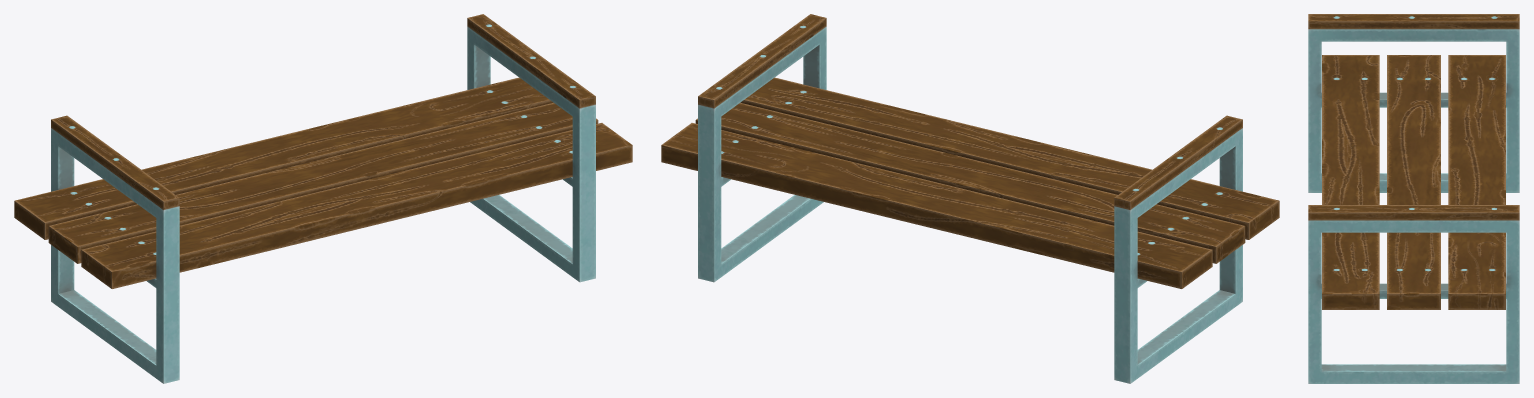
File: modern_bench.gltf
The picture shows the model from 3 angles, left to right: view 1: azimuth 30°, elevation 25°; view 2: azimuth 150°, elevation 25°; view 3: azimuth 270°, elevation 25°; orthographic projection. The views are drawn at different scales.
Visible parts, largest first — view 1: Beam 3, Legs, Beam 1, Beam 2, Armrests; view 2: Beam 1, Legs, Beam 3, Beam 2, Armrests; view 3: Legs, Beam 1, Beam 3, Beam 2, Armrests.
Boxes of the visible parts, <box> form: Beam 3: <box>81,123,632,288</box>; Legs: <box>51,27,595,383</box>; Beam 1: <box>14,77,553,239</box>; Beam 2: <box>48,102,598,263</box>; Armrests: <box>51,14,595,210</box>; Beam 1: <box>661,123,1212,288</box>; Legs: <box>698,27,1242,383</box>; Beam 3: <box>740,77,1279,239</box>; Beam 2: <box>695,102,1245,263</box>; Armrests: <box>698,14,1242,210</box>; Legs: <box>1308,29,1519,383</box>; Beam 1: <box>1448,55,1505,309</box>; Beam 3: <box>1322,55,1379,309</box>; Beam 2: <box>1387,55,1440,309</box>; Armrests: <box>1308,14,1519,220</box>.
Size of the model in its own units: 2 by 0.6687 by 0.7481.
1 material, 1 textured.
